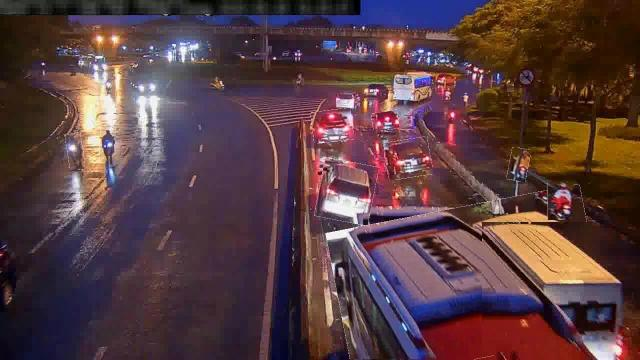Bike: (548, 183, 572, 221), (508, 148, 530, 182), (66, 134, 84, 170), (100, 130, 114, 162)
Bus: (332, 196, 602, 360), (482, 222, 622, 356)
Car: (316, 159, 376, 223), (384, 138, 432, 178), (311, 109, 353, 142), (372, 111, 400, 131)
